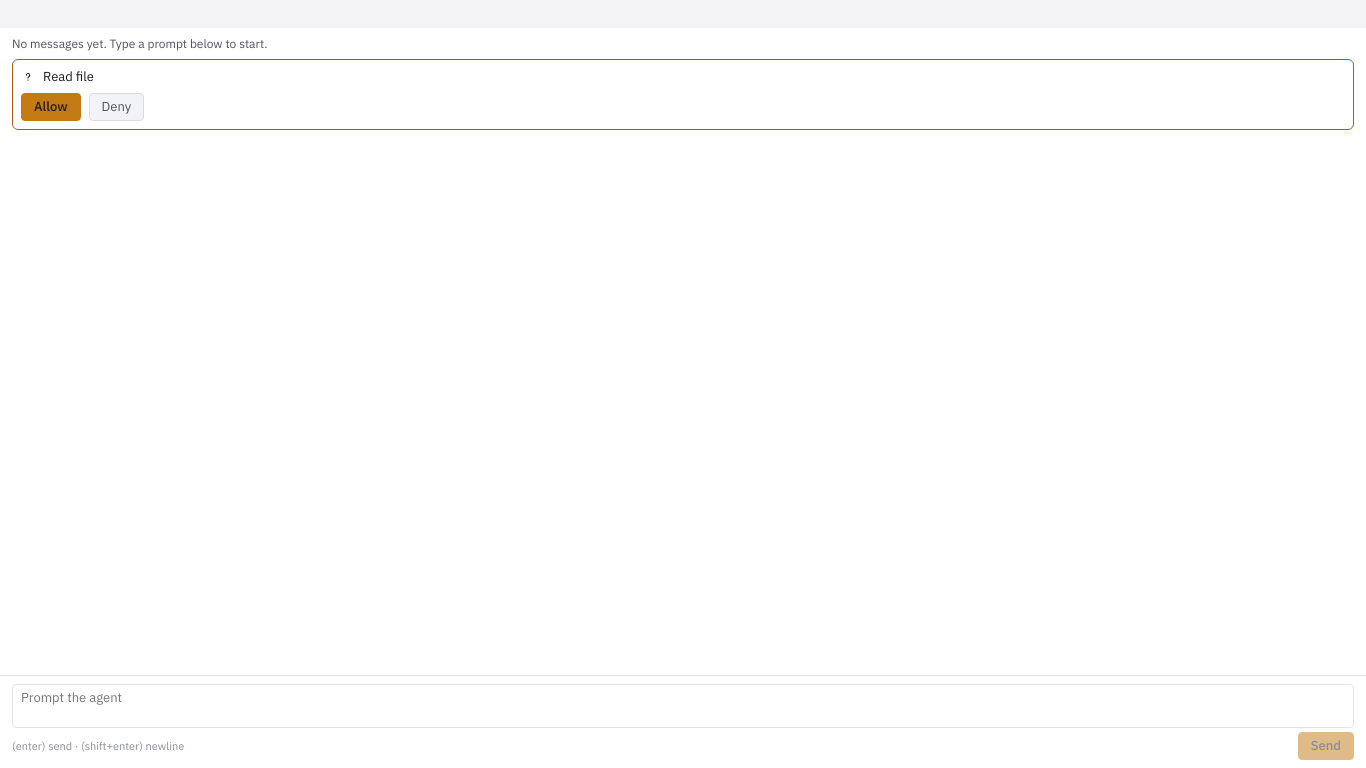
Test: AcpTranscript › answers a permission request with the option it offered
Expected: the element with class "acp-permission" shows "Read file", [43, 68, 94, 85]
Click the button "Deny".
click(116, 107)  # box [89, 93, 144, 121]
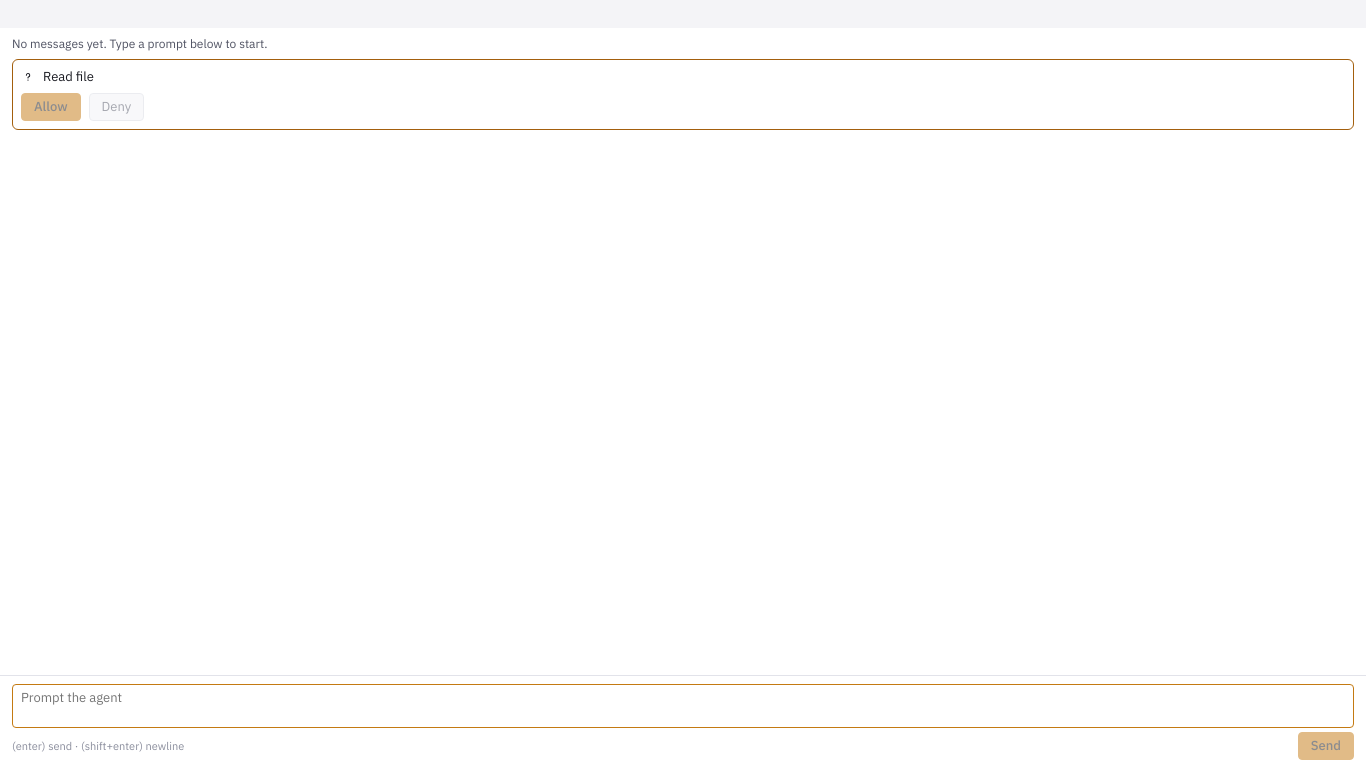
Expected: the button "Allow" is disabled
Click the button "Allow".
click(51, 107)  # box [21, 93, 81, 121]
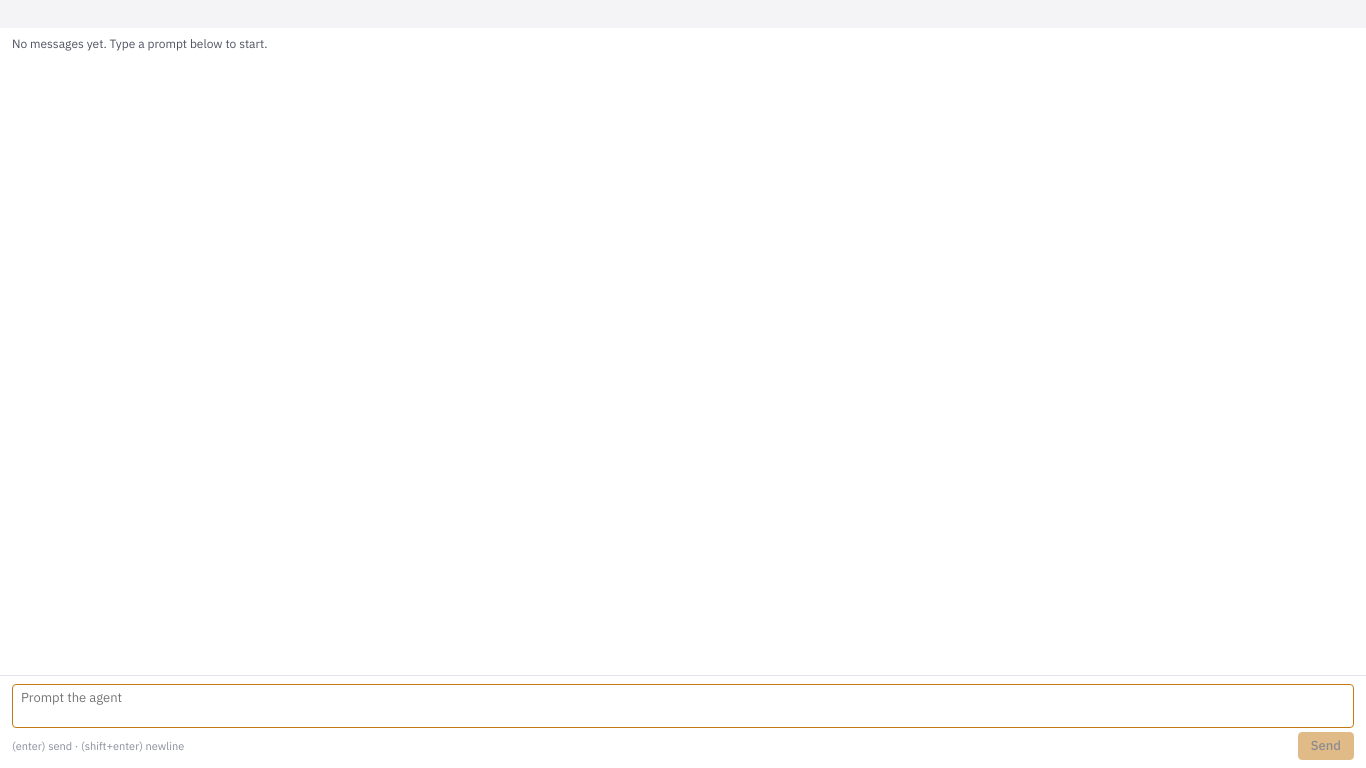
Expected: the element with class "acp-permission" is gone
